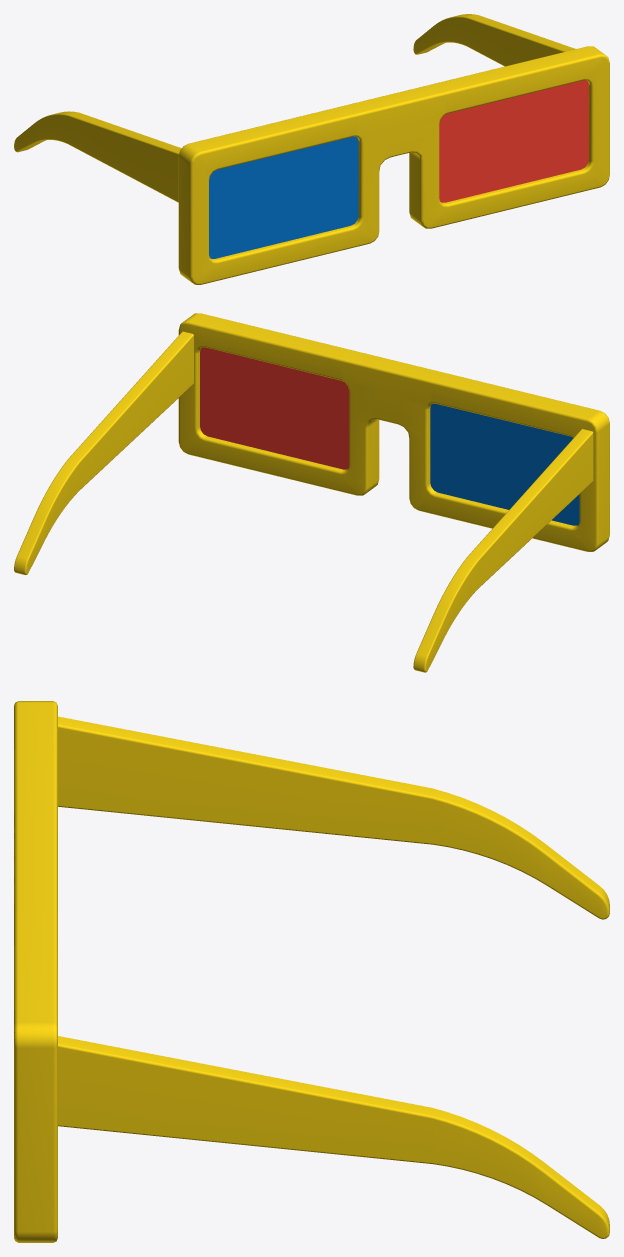
The model's file is Public_4_Cinema_Glasses_1.glb.
The picture shows the model from 3 angles, top to bottom: view 1: azimuth 30°, elevation 25°; view 2: azimuth 150°, elevation 25°; view 3: azimuth 270°, elevation 25°; orthographic projection. The views are drawn at different scales.
Visible parts, largest first — view 1: Public_4_Cinema_Glasses_1; view 2: Public_4_Cinema_Glasses_1; view 3: Public_4_Cinema_Glasses_1.
Part boxes in pixels (bbox=[...]): Public_4_Cinema_Glasses_1: bbox=[14, 14, 609, 284]; Public_4_Cinema_Glasses_1: bbox=[14, 313, 609, 672]; Public_4_Cinema_Glasses_1: bbox=[14, 701, 609, 1242].
Bounding box in the file's own units: 2.71 × 0.8212 × 2.03.
1 material, 1 textured.
